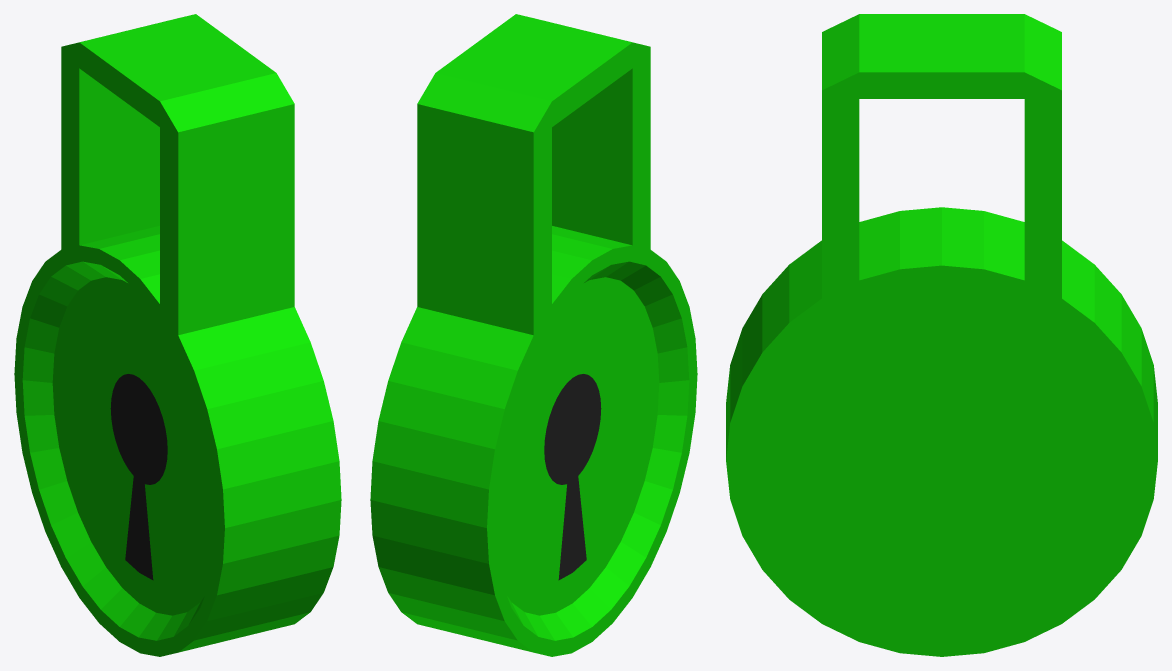
File: lock.fbx
3 renders of one model, left to right at view 1: azimuth 30°, elevation 25°; view 2: azimuth 150°, elevation 25°; view 3: azimuth 270°, elevation 25°, orthographic. The views are drawn at different scales.
Parts seen in each view (by area): view 1: Circle; view 2: Circle; view 3: Circle.
Part boxes in pixels (x1=…): Circle: x1=14, y1=14, x2=341, y2=656; Circle: x1=370, y1=14, x2=697, y2=656; Circle: x1=726, y1=14, x2=1157, y2=656.
Size of the model in its own units: 63.92 by 299 by 200.
